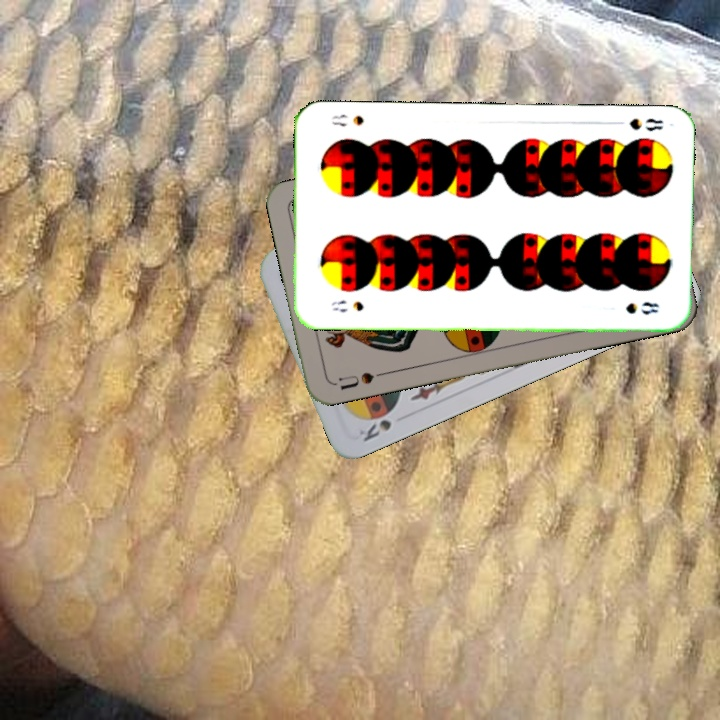S8: (609, 114, 665, 133), (327, 296, 366, 315)
SK: (359, 404, 398, 445)
SU: (330, 367, 388, 393)
